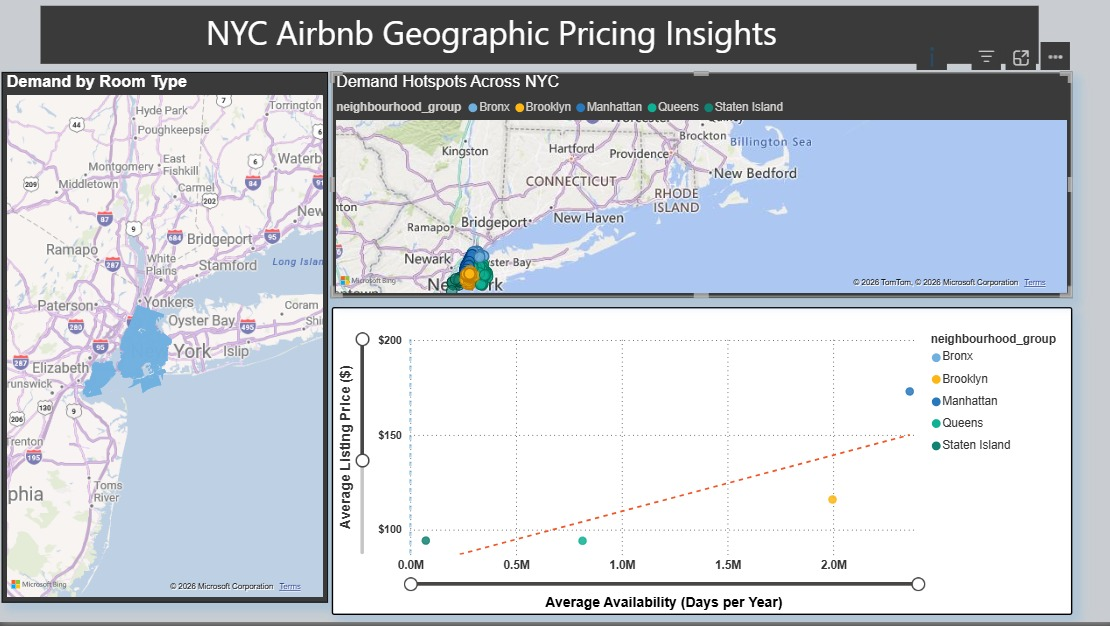

The dashboard page shown, as its layout file describes it:
{"tool":"powerbi","page":{"name":"Page 4","canvas":[1280,720],"ordinal":3},"visuals":[{"type":"textbox","box":[49,15,1141,66],"z":0},{"type":"map","title":"Demand Hotspots Across NYC Boroughs","fields":{"Series":["nyc_dynamic_pricing_final.neighbourhood_group"],"Y":["nyc_dynamic_pricing_final.latitude"],"X":["nyc_dynamic_pricing_final.longitude"],"Size":["nyc_dynamic_pricing_final.Avg Demand Index"]},"box":[381,91,846,258],"z":1000},{"type":"filledMap","title":"Listing Locations Across NYC","fields":{"Category":["nyc_dynamic_pricing_final.neighbourhood_group"]},"box":[4,91,373,606],"z":2000},{"type":"scatterChart","title":"Availability vs Price","fields":{"X":["Sum(nyc_dynamic_pricing_final.availability_365)"],"Series":["nyc_dynamic_pricing_final.neighbourhood_group"],"Y":["nyc_dynamic_pricing_final.Avg Current Price"]},"box":[381,360,846,352],"z":3000}]}

Visuals, with their boxes in screenshot pixels (x1, y1, x2, y2):
textbox: [x1=42, y1=4, x2=1018, y2=61]
"Demand Hotspots Across NYC Boroughs" map: [x1=326, y1=69, x2=1049, y2=290]
"Listing Locations Across NYC" filledMap: [x1=3, y1=69, x2=322, y2=587]
"Availability vs Price" scatterChart: [x1=326, y1=299, x2=1049, y2=600]
